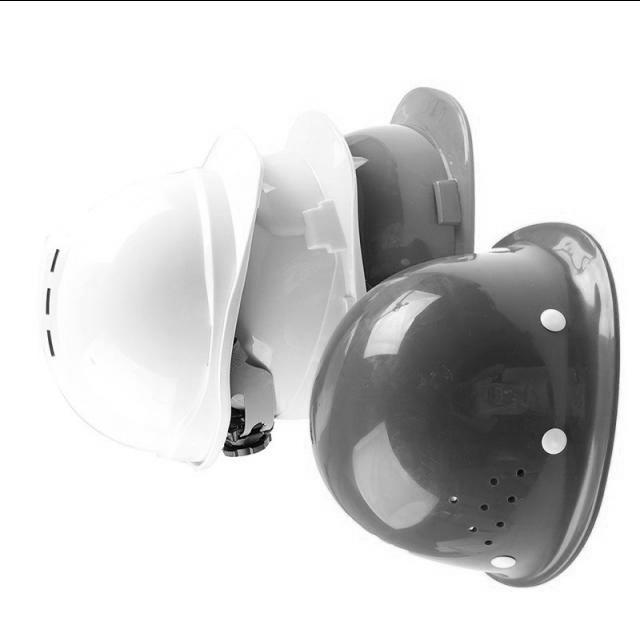construction helmet: (310, 219, 621, 587), (41, 126, 269, 472)
